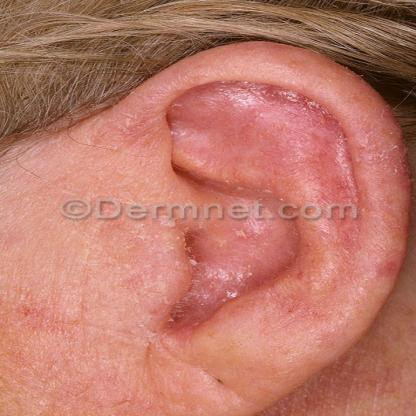Eczema: (0, 318, 187, 416), (40, 154, 193, 272), (130, 80, 304, 156), (289, 193, 409, 273), (273, 276, 366, 356), (313, 86, 384, 188)
